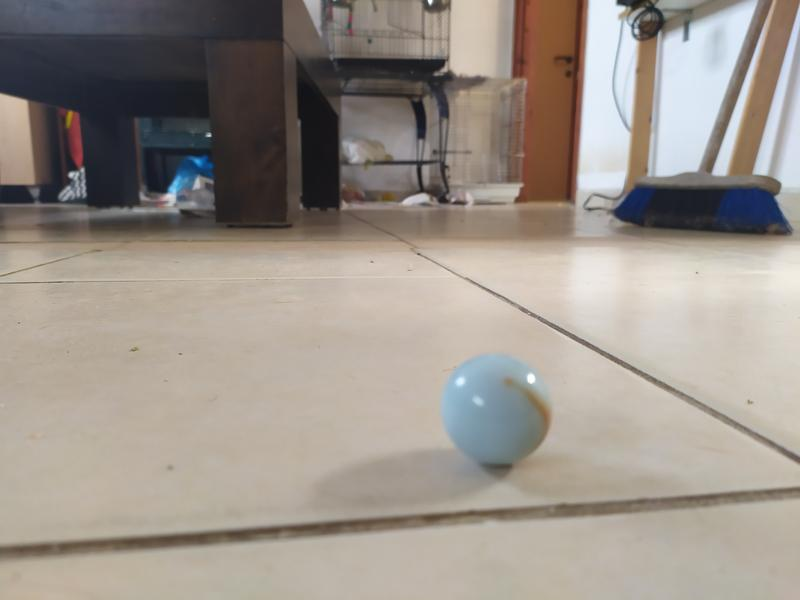Warning: (436, 347, 557, 471)
